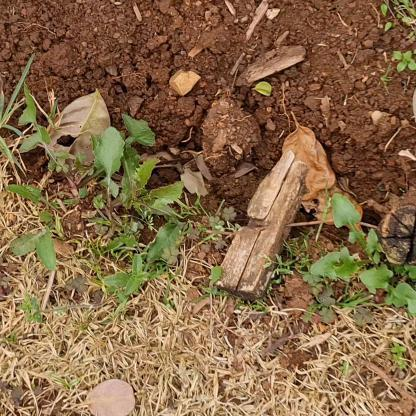Weeds: (9, 85, 183, 271), (311, 190, 415, 317), (103, 255, 153, 297)
